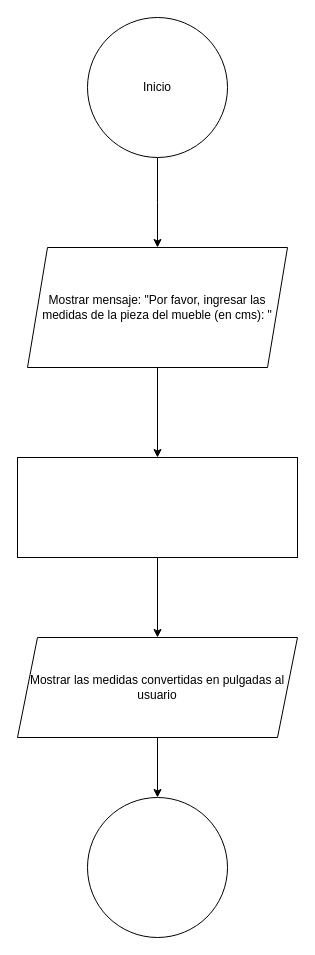
The diagram is 315 pixels wide and 955 high, and some of its shapes have lost their labels. Here are the shapes that lost their labels. From the top down, the box of each, then its label:
(16, 456, 298, 558): Convertir medida_en_pulgadas = medida_en_cms / 2.54
(86, 796, 228, 938): Fin
